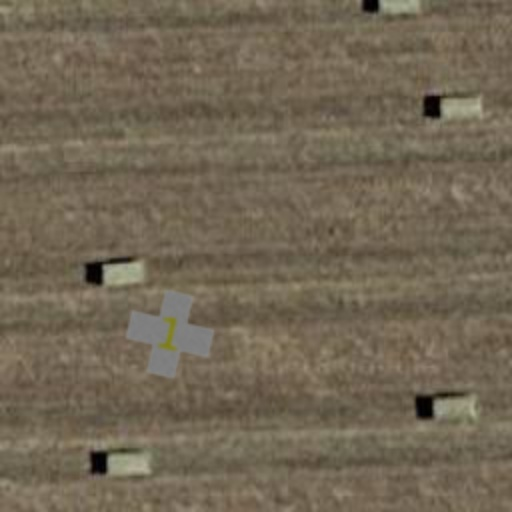cross: (118, 282, 222, 386)
